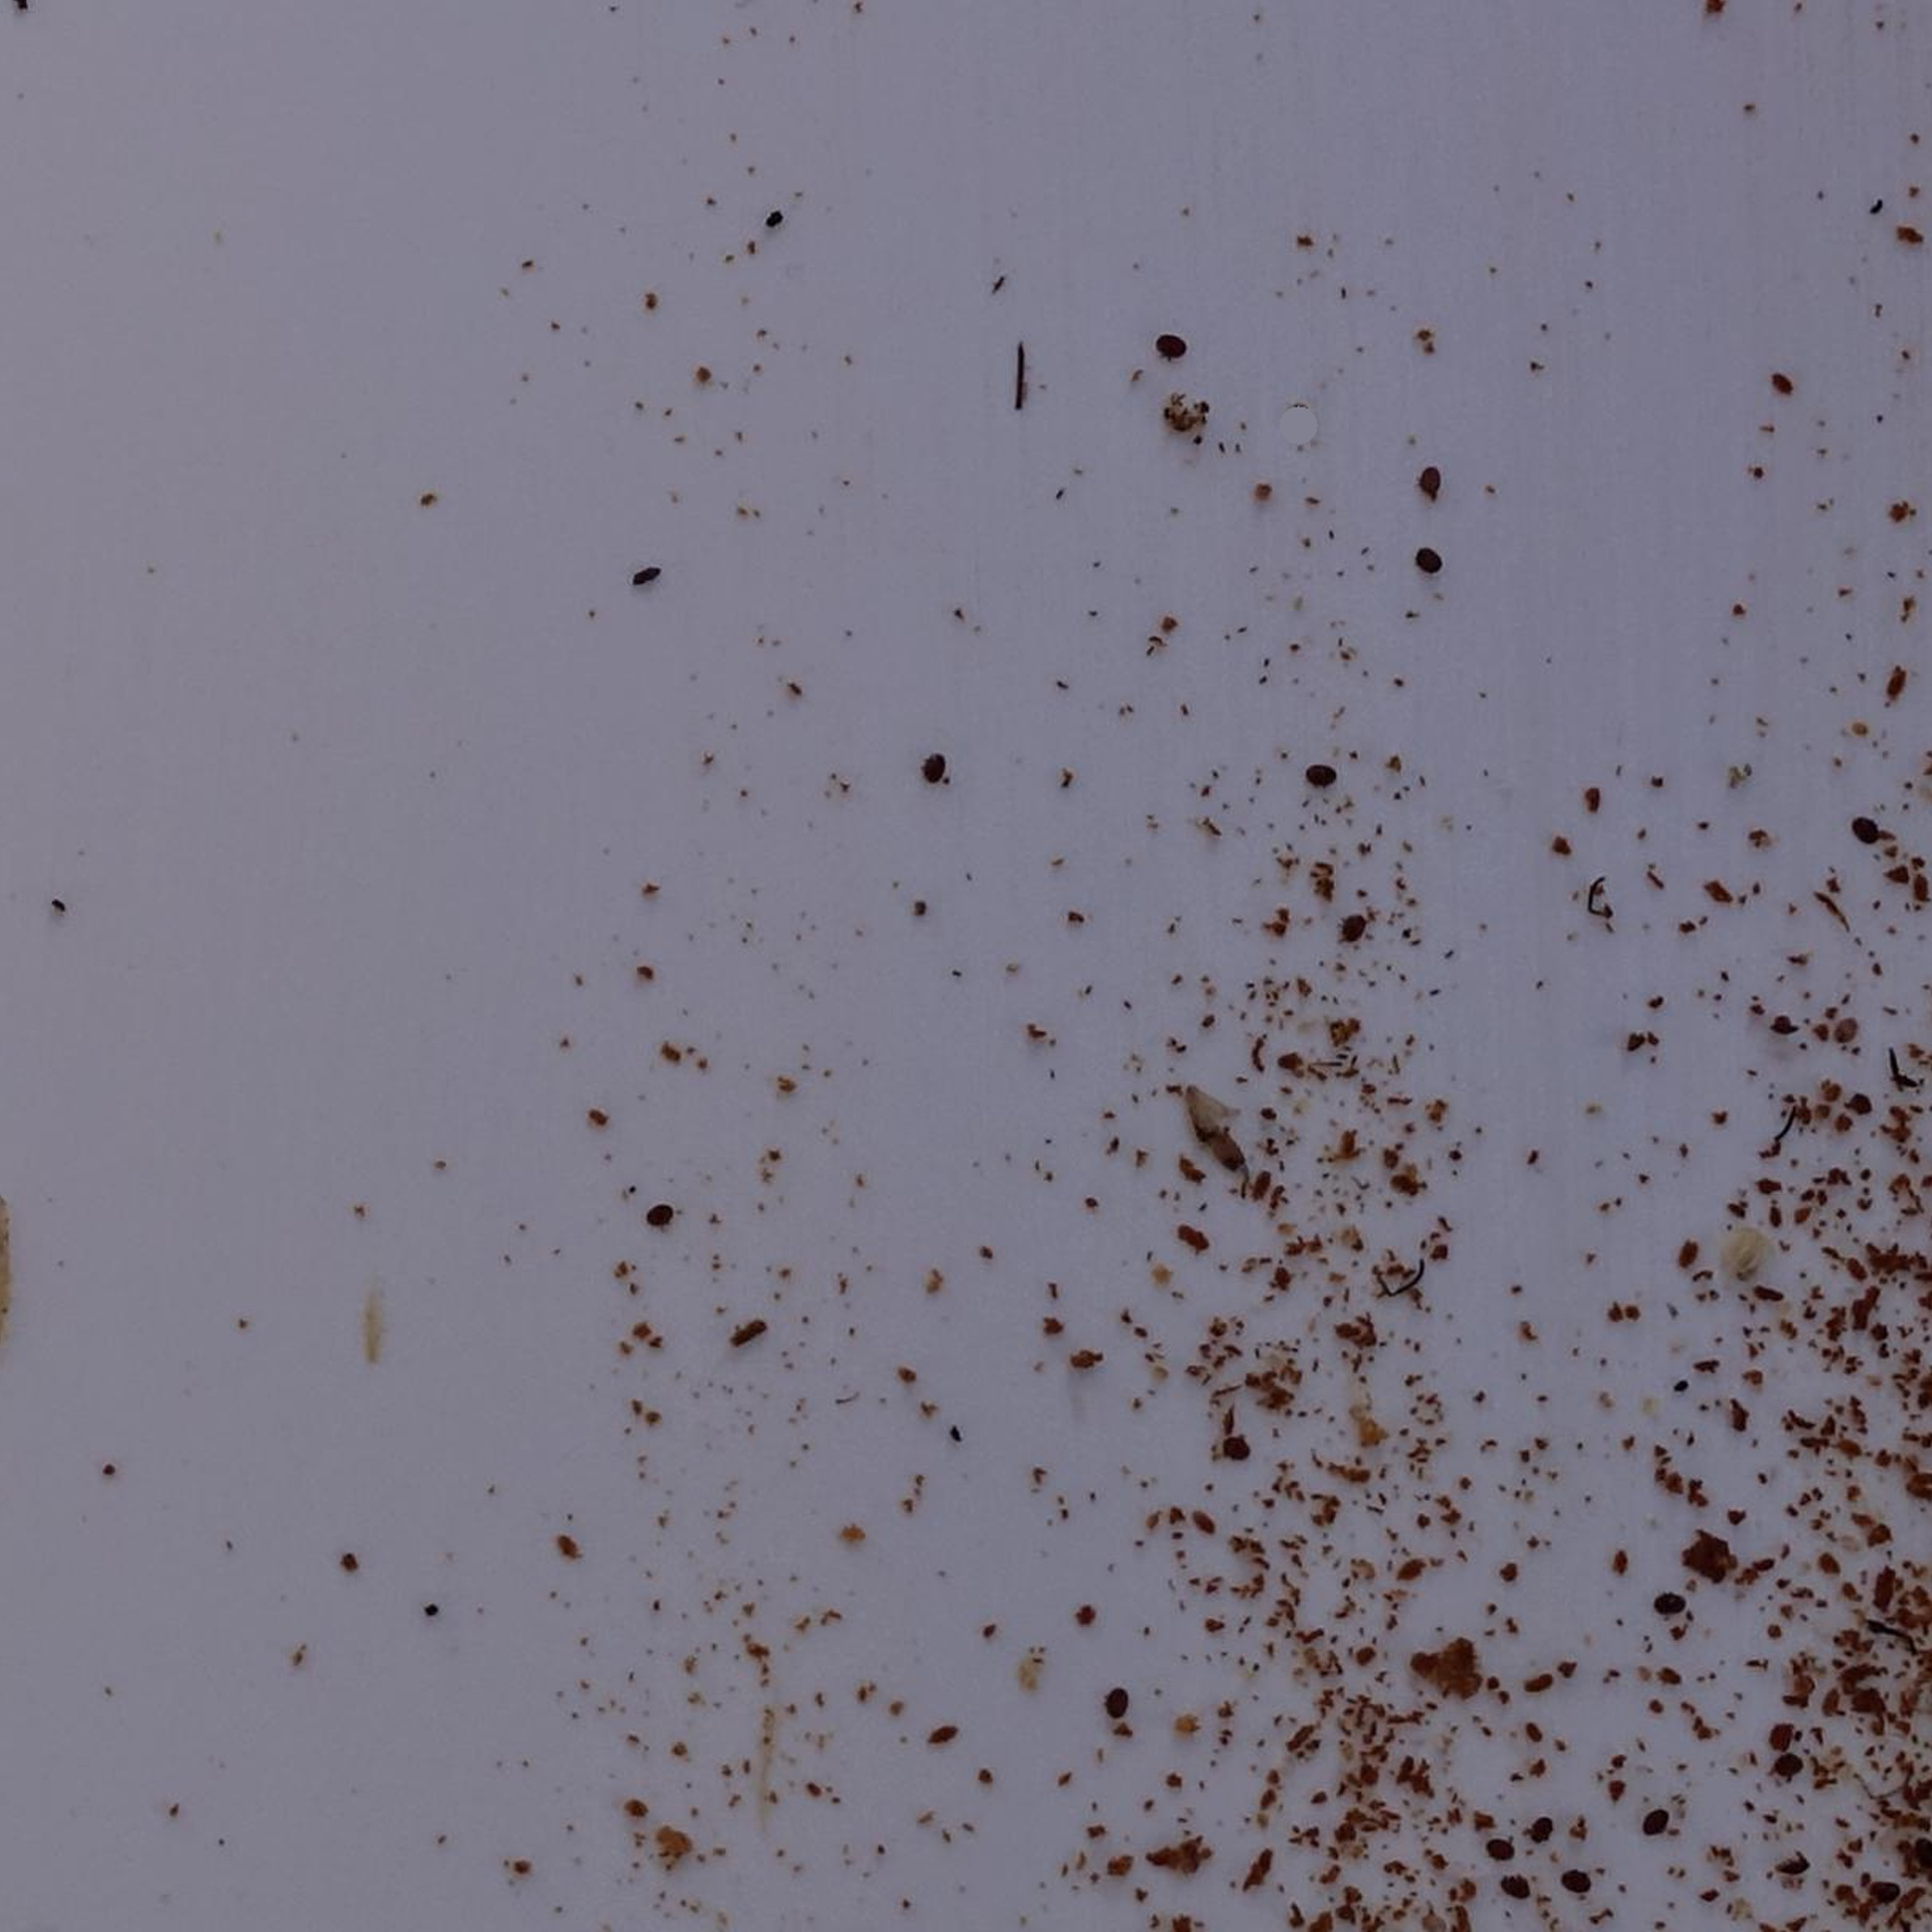Varroa: (1412, 467, 1444, 501), (1652, 1583, 1684, 1615), (1154, 331, 1185, 361), (1785, 1849, 1815, 1879), (1525, 1812, 1555, 1840), (1560, 1870, 1589, 1898), (1499, 1872, 1527, 1900), (1104, 1684, 1134, 1711), (1226, 1437, 1253, 1465), (1309, 763, 1338, 789), (1408, 550, 1435, 579), (1874, 1874, 1900, 1900), (1854, 817, 1879, 844), (644, 1200, 669, 1226), (925, 763, 950, 787), (1644, 1813, 1668, 1838), (1780, 1752, 1803, 1776), (1493, 1833, 1516, 1856), (1341, 913, 1362, 936)
